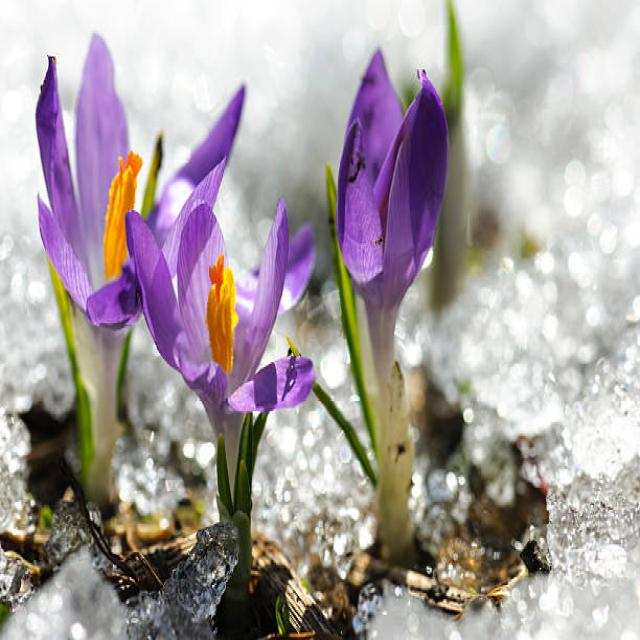saffron open: (36, 34, 142, 506), (338, 51, 449, 392), (142, 87, 244, 274)
